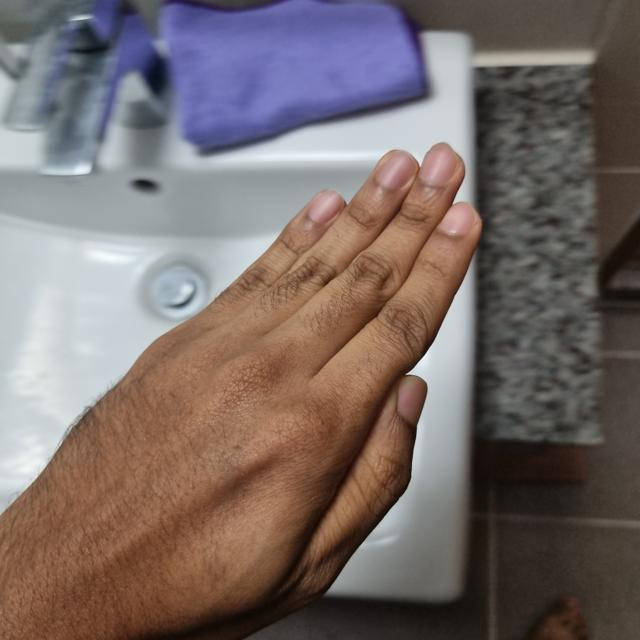Paper: (5, 142, 481, 633)
